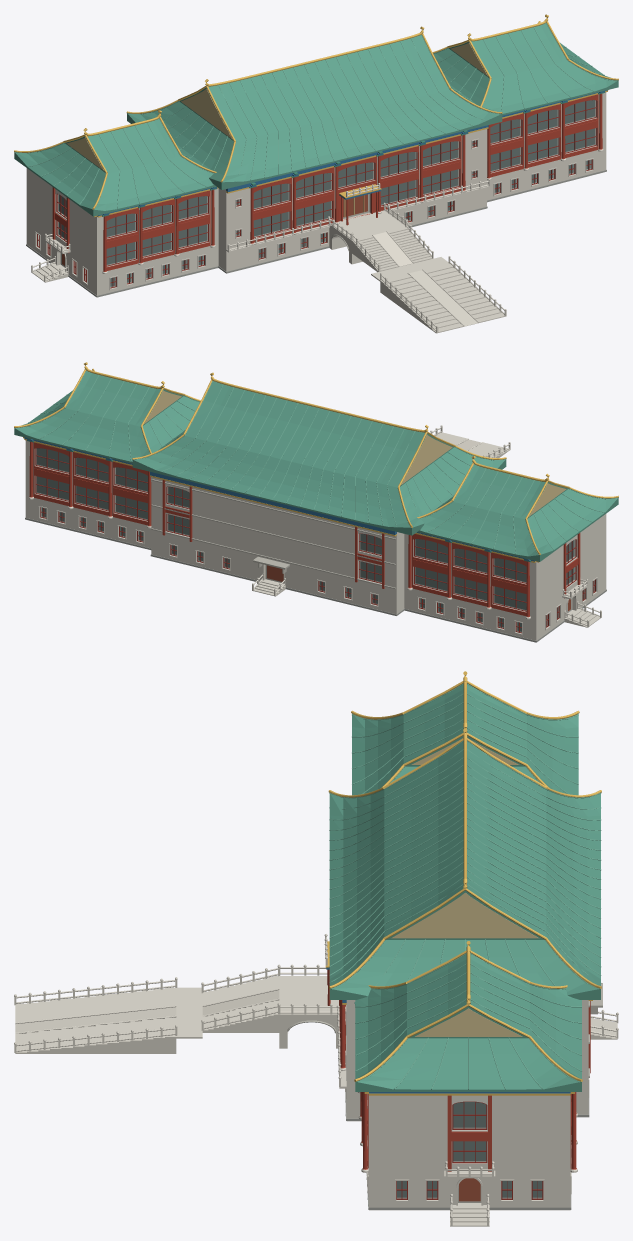
The model's file is yangpu-former-shanghai-city-hall-lod.glb.
The picture shows the model from 3 angles, top to bottom: view 1: azimuth 30°, elevation 25°; view 2: azimuth 150°, elevation 25°; view 3: azimuth 270°, elevation 25°; orthographic projection. The views are drawn at different scales.
Visible parts, largest first — view 1: 原上海特别市政府大楼（绿瓦大楼）外观候选; view 2: 原上海特别市政府大楼（绿瓦大楼）外观候选; view 3: 原上海特别市政府大楼（绿瓦大楼）外观候选.
Part boxes in pixels (x1,y1,x2,y2): 原上海特别市政府大楼（绿瓦大楼）外观候选: (14, 14, 618, 333); 原上海特别市政府大楼（绿瓦大楼）外观候选: (14, 362, 618, 642); 原上海特别市政府大楼（绿瓦大楼）外观候选: (14, 671, 618, 1226).
Size of the model in its own units: 105 by 28.36 by 68.83.
